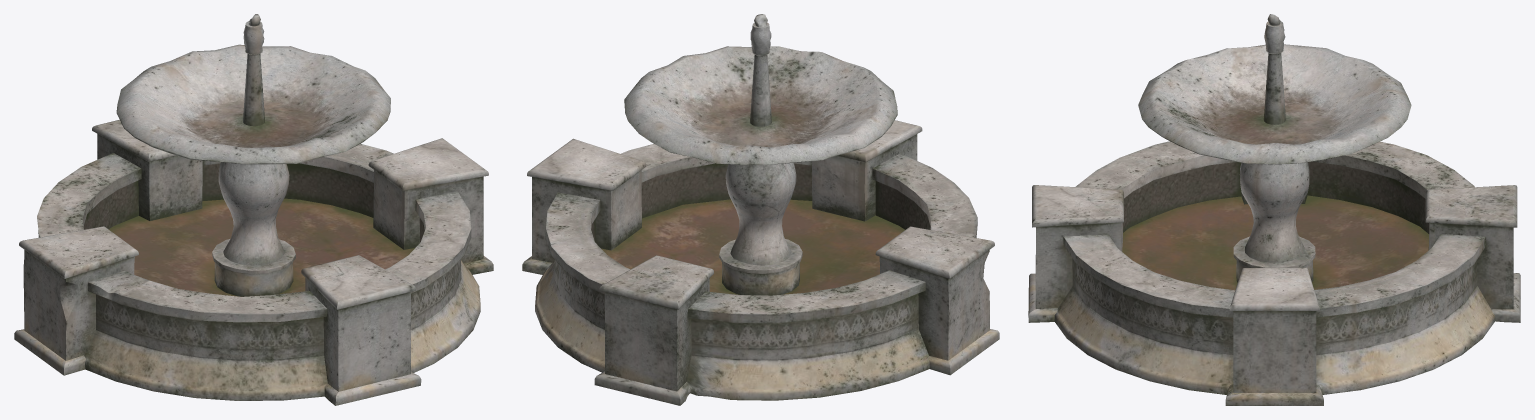
The model's file is old_concrete_fountain_02baeb64.fbx.
The picture shows the model from 3 angles, left to right: view 1: azimuth 30°, elevation 25°; view 2: azimuth 150°, elevation 25°; view 3: azimuth 270°, elevation 25°; orthographic projection.
Parts seen in each view (by area): view 1: old_concrete_fountain_02baeb64; view 2: old_concrete_fountain_02baeb64; view 3: old_concrete_fountain_02baeb64.
Part boxes in pixels (left/top/right/bottom): old_concrete_fountain_02baeb64: left=14, top=14, right=493, bottom=405; old_concrete_fountain_02baeb64: left=522, top=14, right=999, bottom=405; old_concrete_fountain_02baeb64: left=1028, top=14, right=1520, bottom=405.
Bounding box in the file's own units: 3.28 × 2.11 × 3.28.
Materials: 1 (1 with a texture image).
